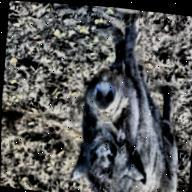boar: (69, 8, 189, 192)
